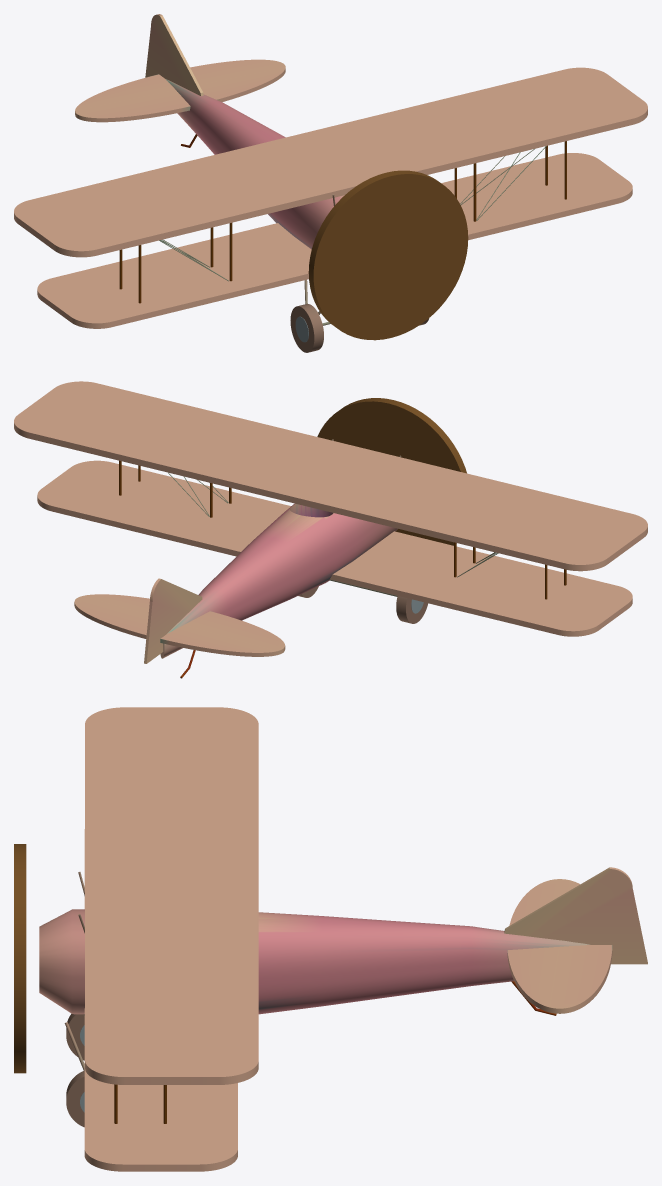
3 renders of one model, top to bottom at view 1: azimuth 30°, elevation 25°; view 2: azimuth 150°, elevation 25°; view 3: azimuth 270°, elevation 25°, orthographic. The views are drawn at different scales.
Parts seen in each view (by area): view 1: upper_wing, lower_wing, disc, tailplane, body, fin, wheel.003; view 2: upper_wing, lower_wing, body, disc, tailplane, fin, wheel.003; view 3: upper_wing, body, lower_wing, fin, tailplane, disc, wheel.
Boxes of the visible parts, x1=… form: upper_wing: x1=14, y1=67, x2=647, y2=257; lower_wing: x1=37, y1=153, x2=632, y2=328; disc: x1=308, y1=170, x2=468, y2=340; tailplane: x1=75, y1=59, x2=285, y2=122; body: x1=165, y1=79, x2=344, y2=249; fin: x1=145, y1=14, x2=203, y2=95; wheel.003: x1=290, y1=304, x2=323, y2=352; upper_wing: x1=14, y1=381, x2=647, y2=571; lower_wing: x1=37, y1=460, x2=632, y2=636; body: x1=160, y1=503, x2=397, y2=658; disc: x1=317, y1=398, x2=466, y2=545; tailplane: x1=74, y1=594, x2=285, y2=656; fin: x1=144, y1=578, x2=202, y2=663; wheel.003: x1=396, y1=596, x2=428, y2=623; upper_wing: x1=85, y1=707, x2=258, y2=1084; body: x1=39, y1=909, x2=589, y2=1014; lower_wing: x1=84, y1=829, x2=237, y2=1171; fin: x1=504, y1=867, x2=647, y2=964; tailplane: x1=507, y1=879, x2=612, y2=1013; disc: x1=14, y1=844, x2=26, y2=1073; wheel: x1=66, y1=1070, x2=84, y2=1127.
Size of the model in its own units: 9.98 by 2.99 by 7.23.
